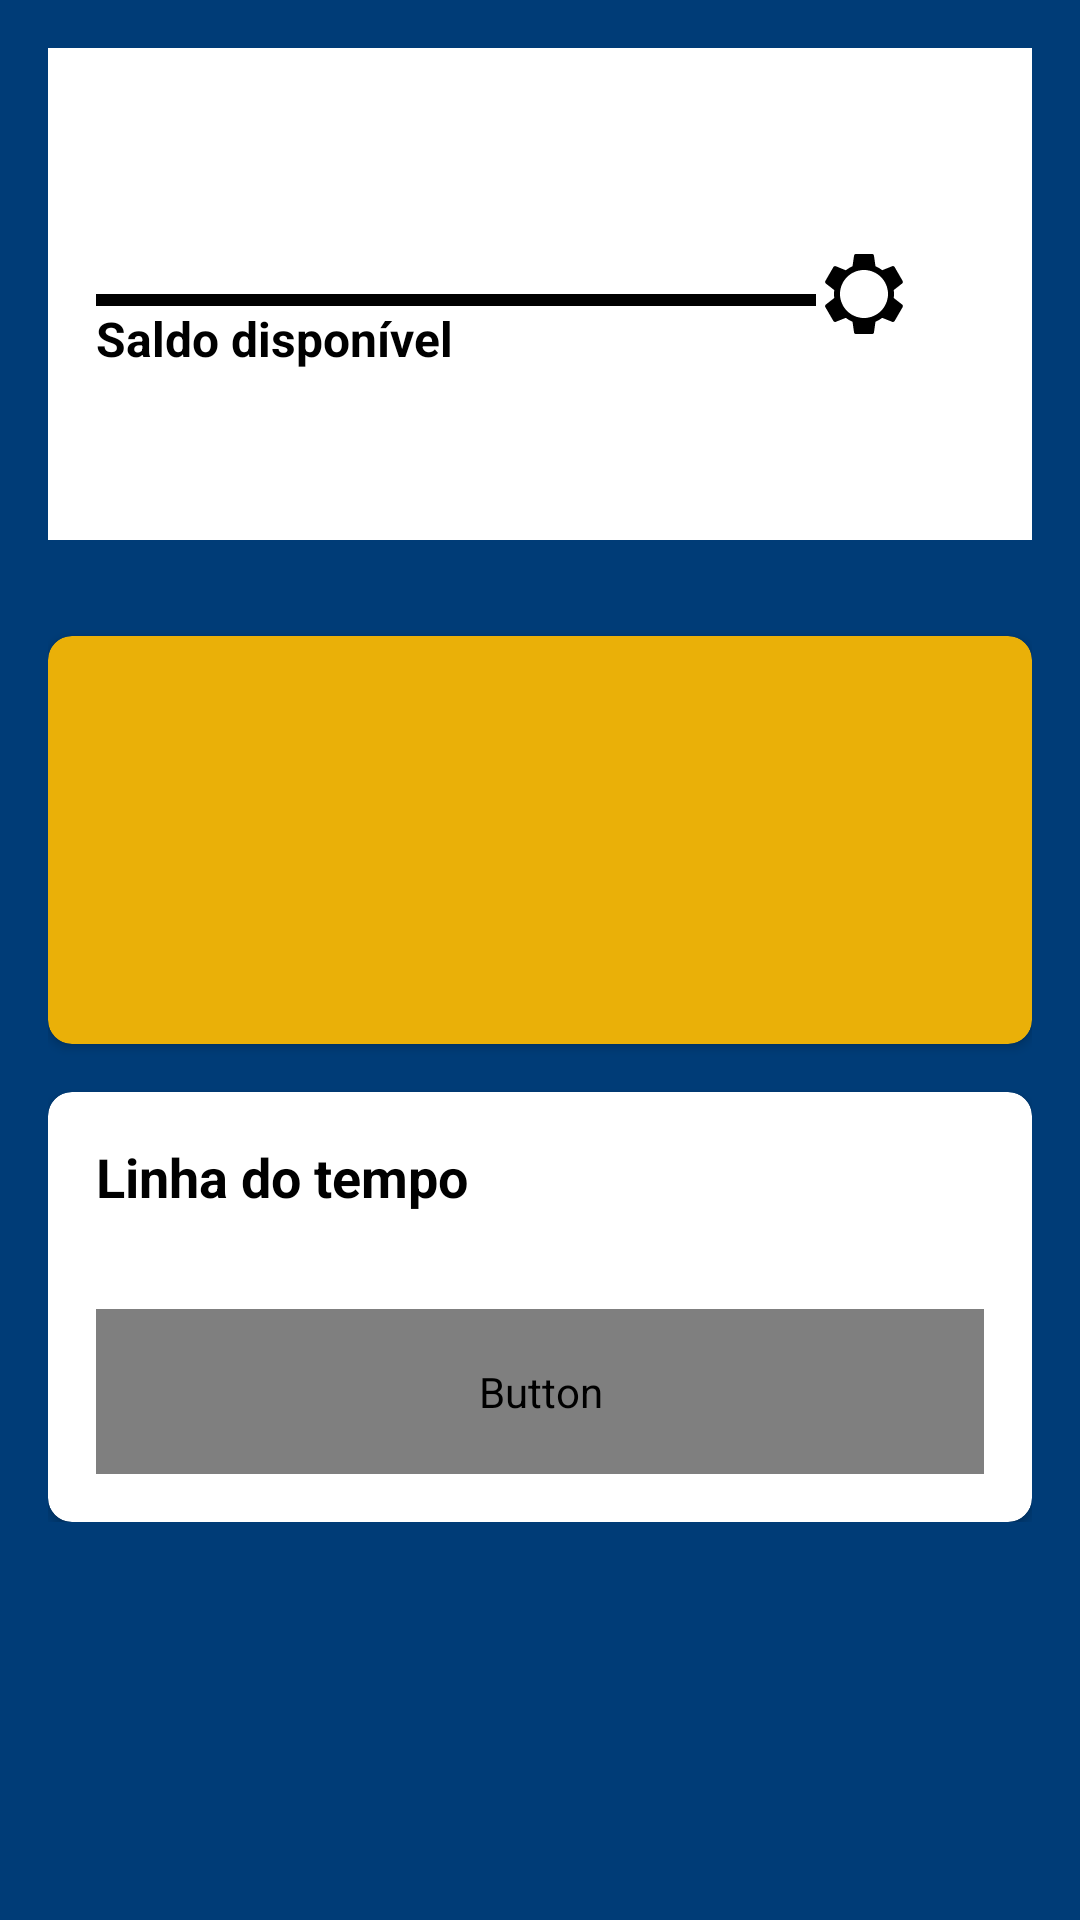

Named icons in this screenshot (1080w x 1920h) and their centers, point (x, y):
Configurações: point (864, 294)
